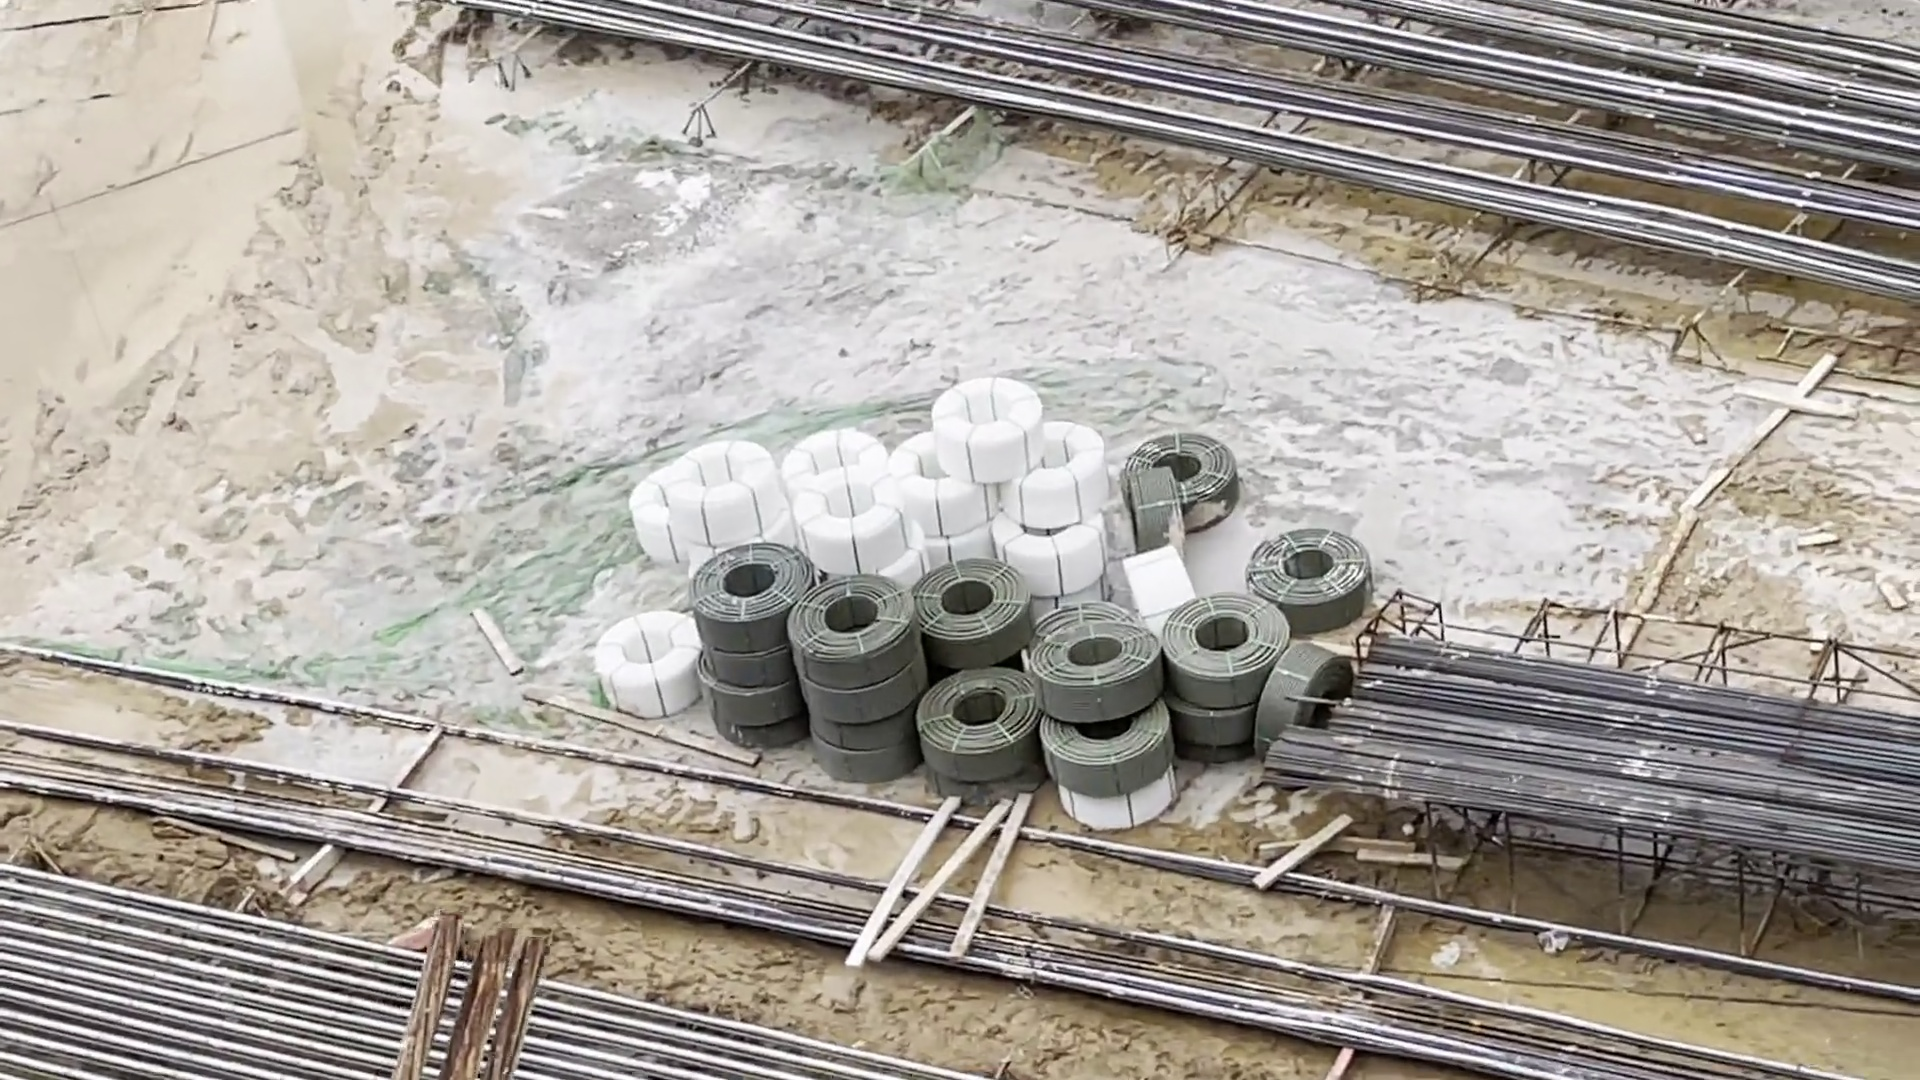rebar: (1065, 1, 1917, 261), (1266, 645, 1920, 866), (18, 884, 615, 1080)
